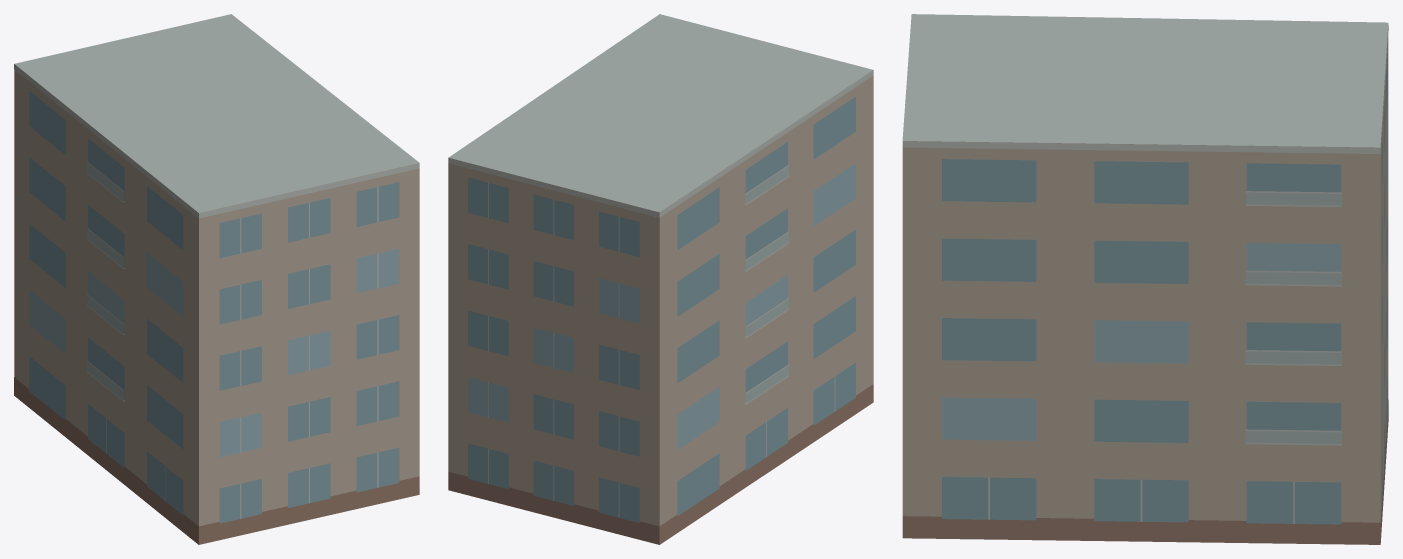
The model's file is survey-upis-32565848.glb.
The picture shows the model from 3 angles, left to right: view 1: azimuth 30°, elevation 25°; view 2: azimuth 150°, elevation 25°; view 3: azimuth 270°, elevation 25°; orthographic projection. The views are drawn at different scales.
Parts seen in each view (by area): view 1: survey-upis-32565848.tmp; view 2: survey-upis-32565848.tmp; view 3: survey-upis-32565848.tmp.
Boxes of the visible parts, x1,y1,x2,y2 form: survey-upis-32565848.tmp: [14, 14, 419, 544]; survey-upis-32565848.tmp: [448, 14, 873, 544]; survey-upis-32565848.tmp: [902, 14, 1388, 544].
Bounding box in the file's own units: 10.68 × 14.8 × 16.42.
